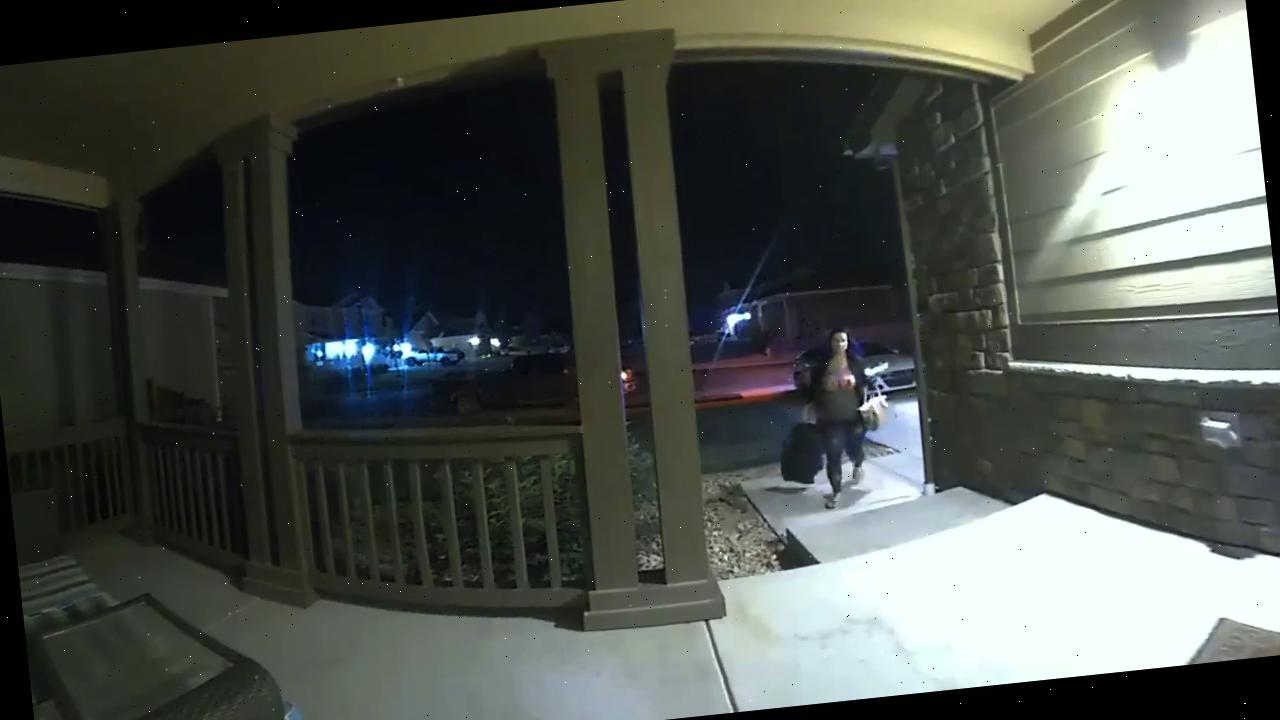suspicion: (756, 296, 910, 524)
